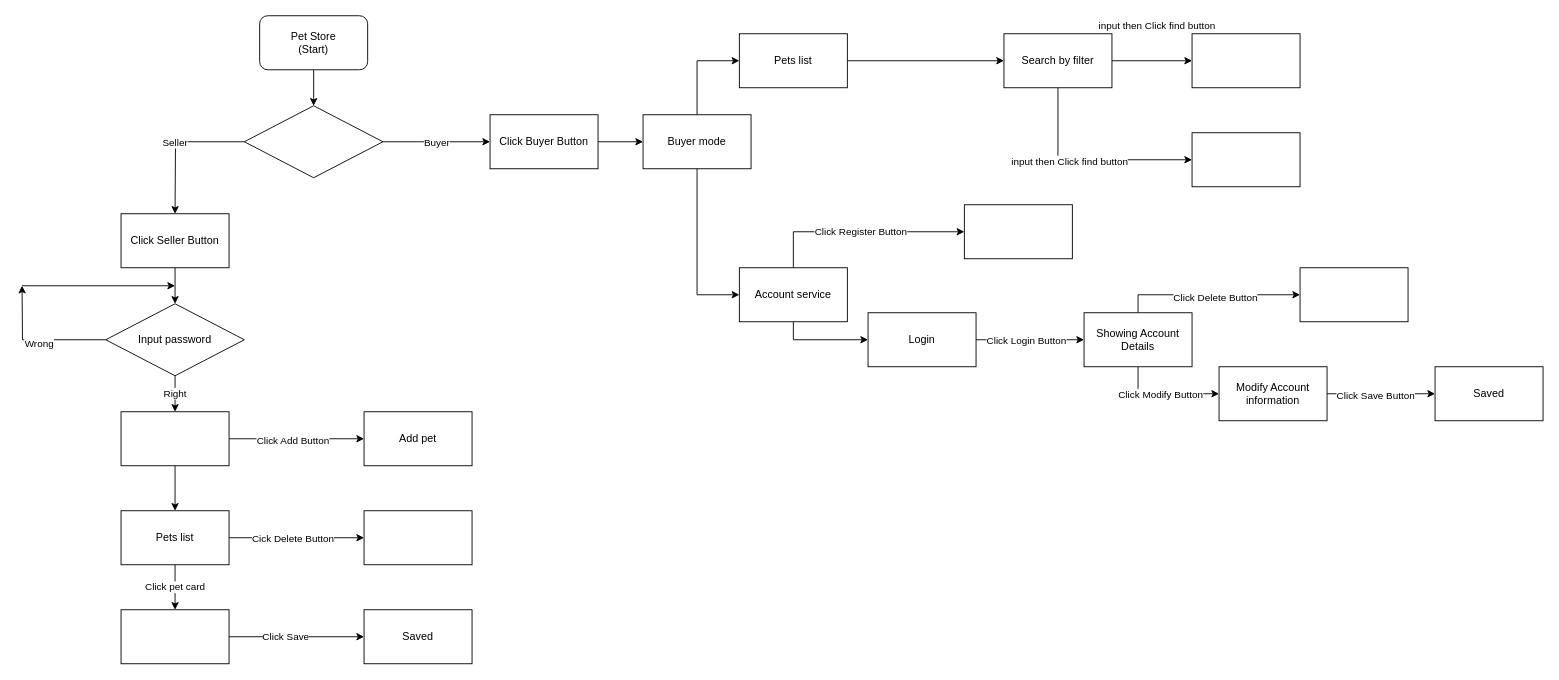
The diagram is 1559 pixels wide and 680 high, and some of its shapes have lost their labels. The box of each missing label's shape, as (x1, y1, x2, y2) in pixels:
Are you a seller or buyer?: (243, 105, 383, 178)
By category list: (1191, 132, 1300, 187)
By name list: (1191, 33, 1300, 88)
Delete Account: (1299, 267, 1408, 322)
Delete pet: (363, 510, 472, 565)
Register: (963, 204, 1072, 259)
Seller mode: (120, 411, 229, 466)
Show Pets details: (120, 609, 229, 664)
